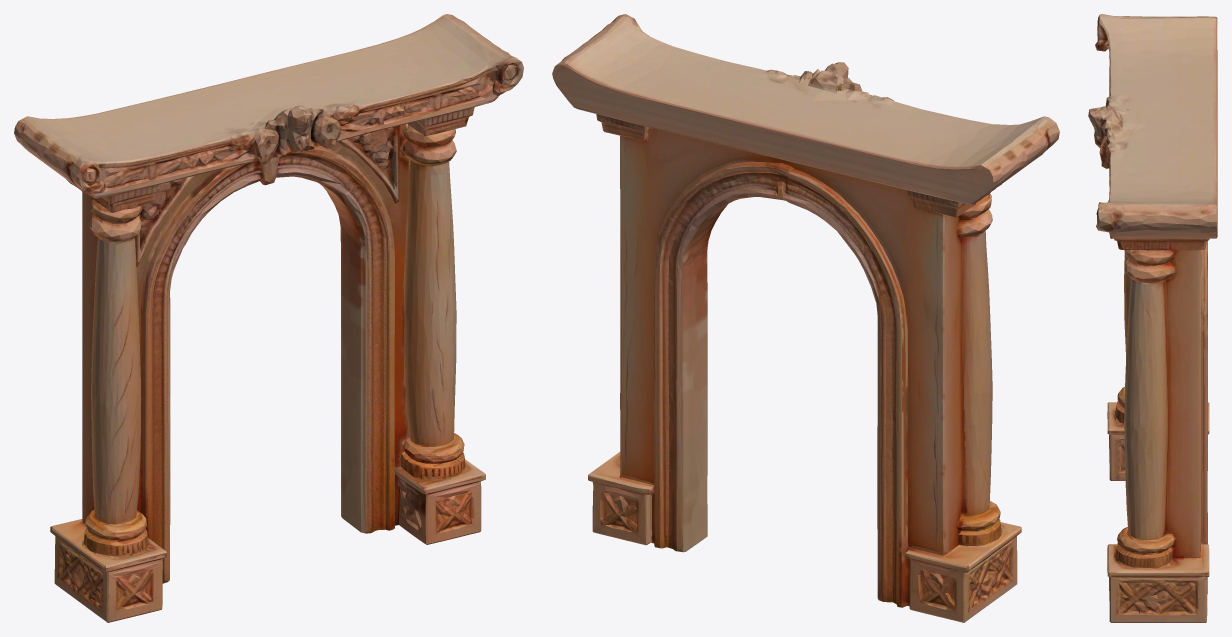
Rendered from architectural_components.glb.
The picture shows the model from 3 angles, left to right: view 1: azimuth 30°, elevation 25°; view 2: azimuth 150°, elevation 25°; view 3: azimuth 270°, elevation 25°; orthographic projection. The views are drawn at different scales.
Size of the model in its own units: 1.94 by 1.97 by 0.5329.
Materials: 1 (1 with a texture image).
